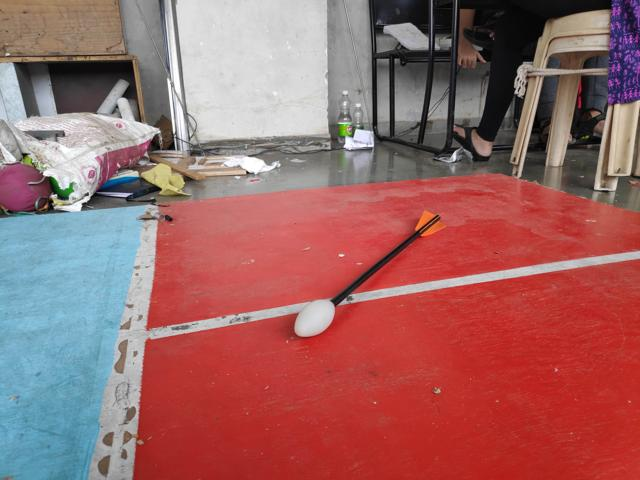Head: (291, 296, 338, 339)
Tail: (411, 208, 449, 241)
